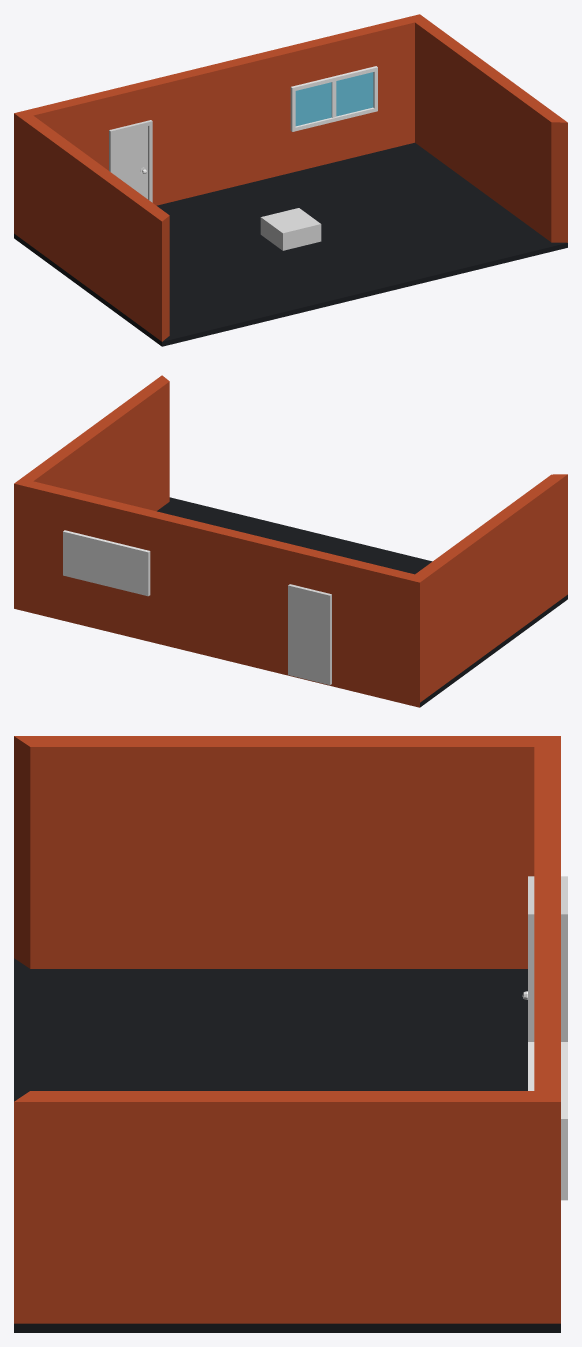
The model's file is room.glb.
The picture shows the model from 3 angles, top to bottom: view 1: azimuth 30°, elevation 25°; view 2: azimuth 150°, elevation 25°; view 3: azimuth 270°, elevation 25°; orthographic projection. The views are drawn at different scales.
Visible parts, largest first — view 1: Object_5, Object_3, Object_6, Cube, Object_2, Object_7, Object_4; view 2: Object_5, Object_3, Object_7, Object_4; view 3: Object_5, Object_3, Object_4, Object_7.
Part boxes in pixels (bbox=[...]): Object_5: bbox=[14, 14, 567, 341]; Object_3: bbox=[14, 142, 567, 346]; Object_6: bbox=[295, 72, 373, 126]; Cube: bbox=[260, 208, 321, 250]; Object_2: bbox=[114, 126, 147, 198]; Object_7: bbox=[140, 66, 377, 173]; Object_4: bbox=[109, 120, 152, 202]; Object_5: bbox=[14, 375, 567, 707]; Object_3: bbox=[157, 497, 567, 707]; Object_7: bbox=[63, 530, 150, 596]; Object_4: bbox=[288, 584, 331, 684]; Object_5: bbox=[14, 736, 560, 1323]; Object_3: bbox=[14, 958, 560, 1332]; Object_4: bbox=[528, 876, 567, 1041]; Object_7: bbox=[522, 991, 567, 1200].
Bounding box in the file's own units: 21.2 × 7.12 × 13.57.
